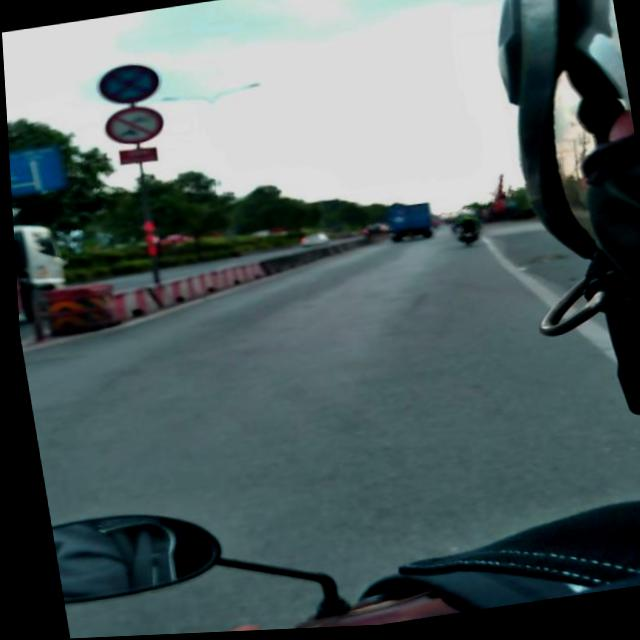Cam dung xe va do xe: (95, 63, 160, 108)
